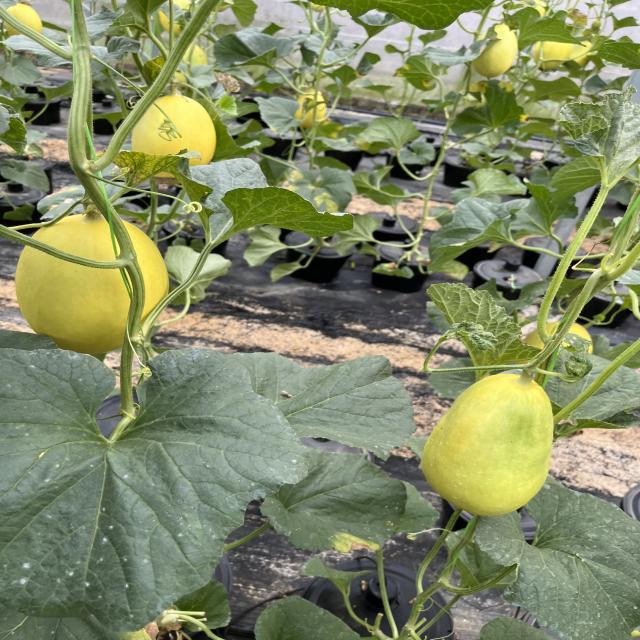SLCV: (552, 83, 640, 186), (553, 335, 610, 380), (441, 319, 505, 352)
alternaria leaf blight: (97, 142, 183, 187)
downy mildew: (0, 342, 301, 640), (461, 477, 640, 640), (171, 159, 358, 250), (256, 352, 410, 454), (99, 146, 205, 183)
healthy: (258, 448, 441, 556)
